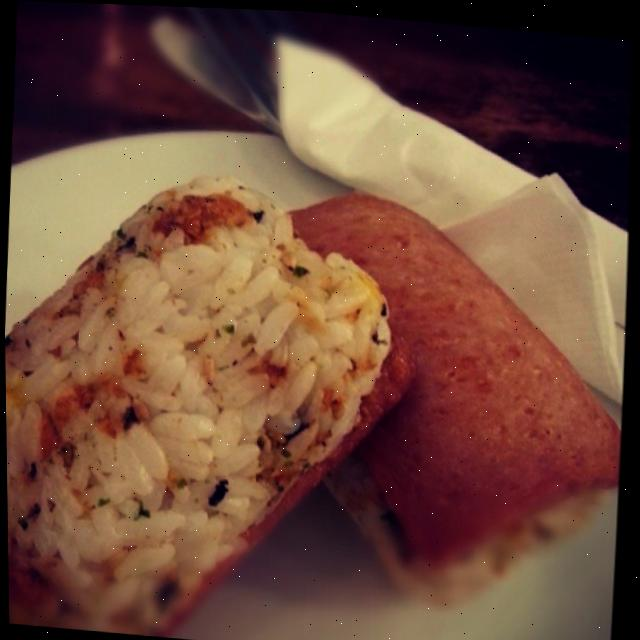寿司卷物: (1, 97, 620, 640)
